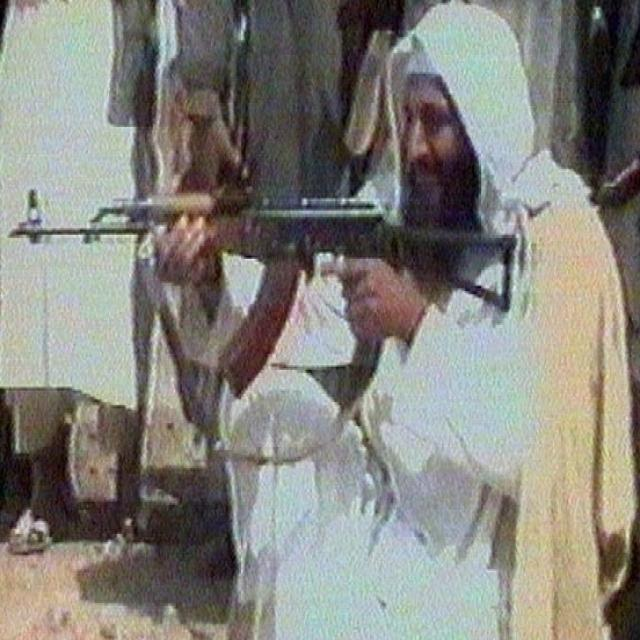ak: (10, 176, 517, 388)
